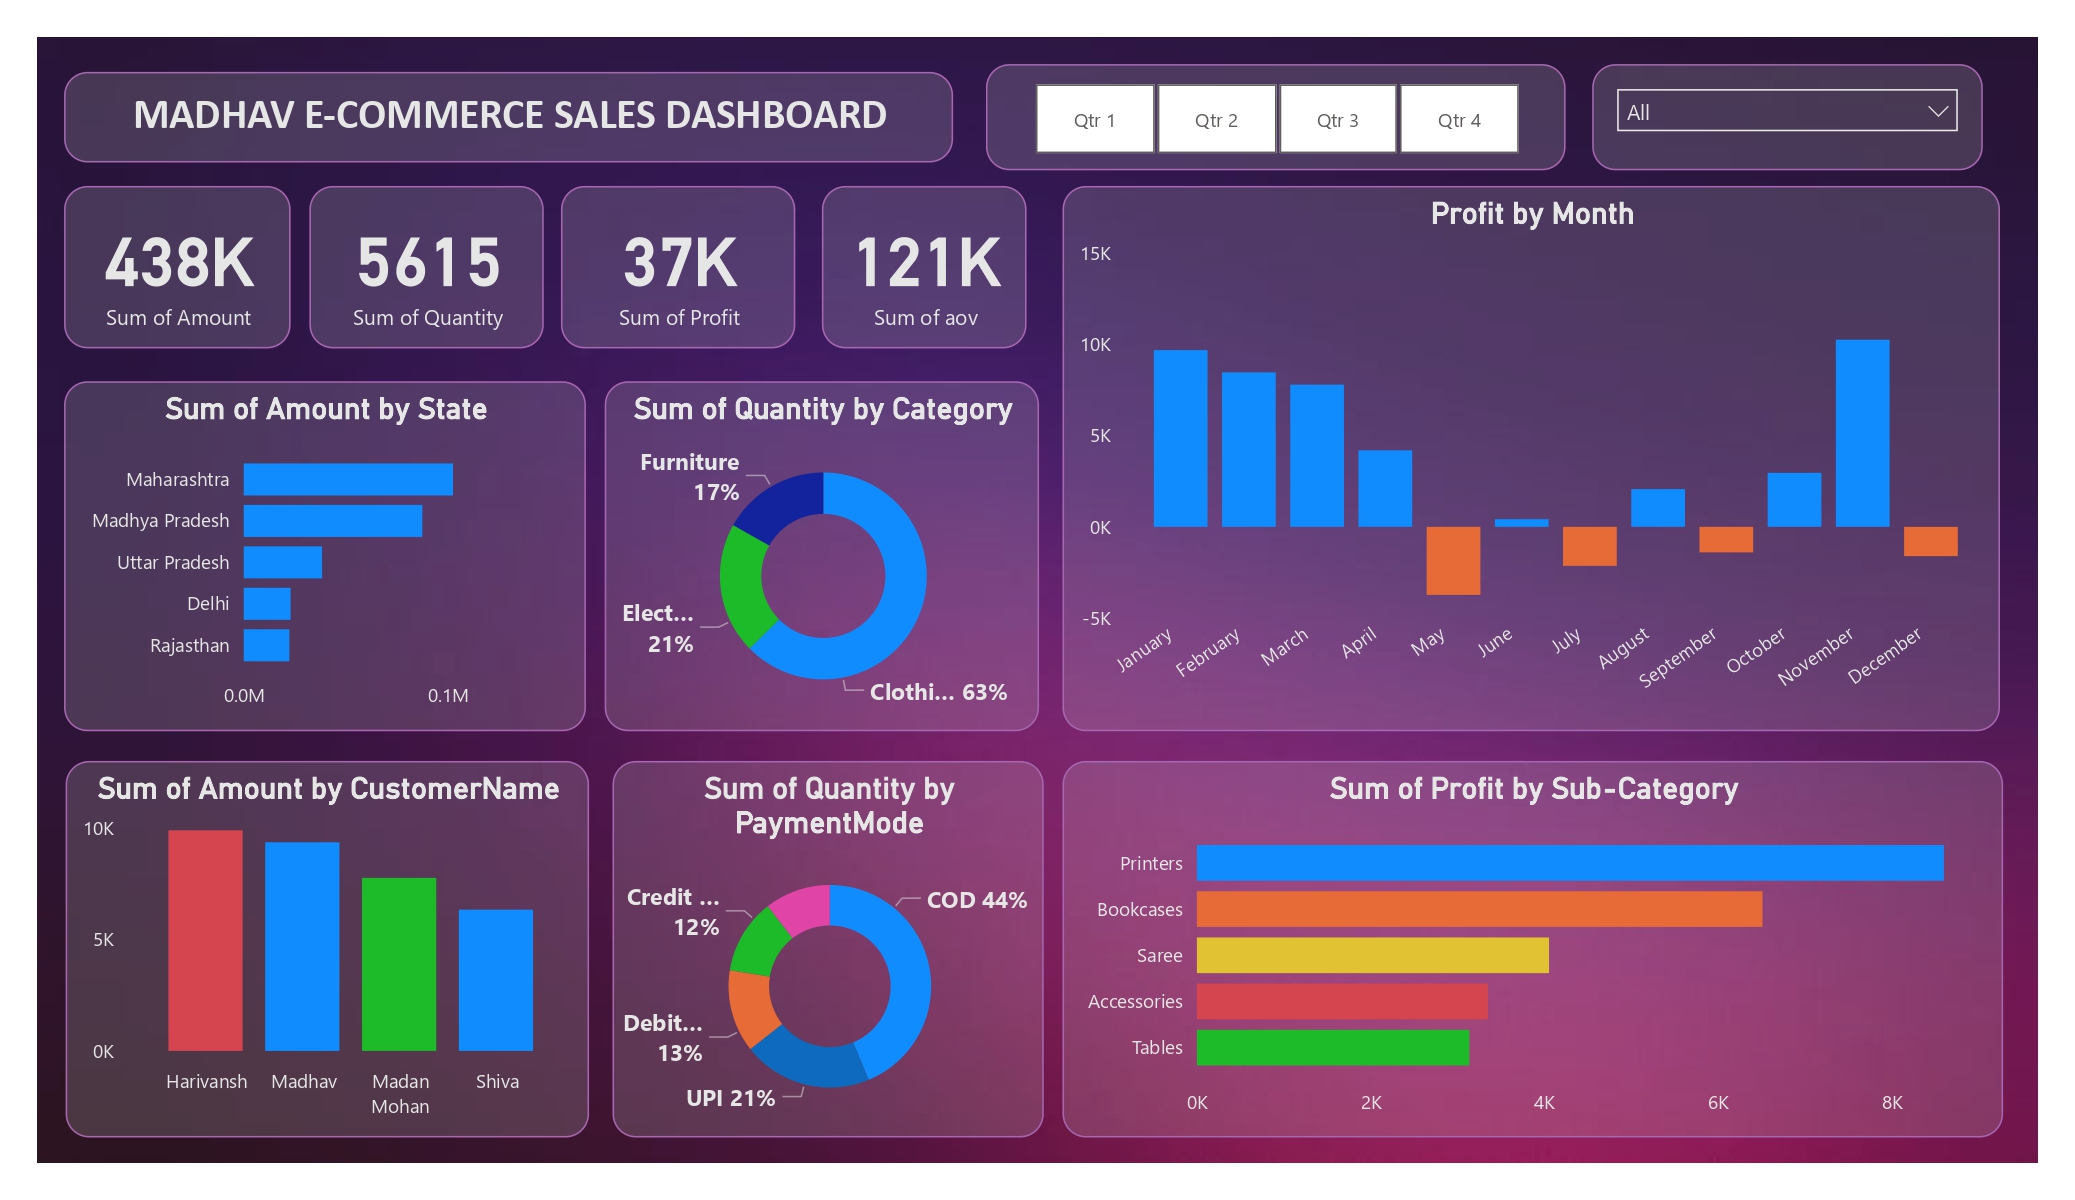

Layout of this report page (visuals, bound fields, positions):
{"tool":"powerbi","page":{"name":"Page 1","canvas":[1280,720],"ordinal":0},"visuals":[{"type":"textbox","box":[16.6,21.6,569.1,58.2],"z":0},{"type":"columnChart","title":"Profit by Month","fields":{"Category":["Orders.Order Date.Variation.Date Hierarchy.Month"],"Y":["Details.Profit"]},"box":[655.6,94.8,600.7,349.4],"z":1000},{"type":"barChart","fields":{"Category":["Details.Sub-Category"],"Y":["Details.Profit"]},"box":[655.6,462.6,602.3,241.3],"z":2000},{"type":"donutChart","fields":{"Category":["Details.Category"],"Y":["Details.Quantity"]},"box":[362.7,219.6,277.9,224.6],"z":3000},{"type":"donutChart","fields":{"Y":["Details.Quantity"],"Category":["Details.PaymentMode"]},"box":[367.7,462.6,276.2,241.3],"z":4000},{"type":"card","fields":{"Values":["Details.Amount"]},"box":[17,94.7,145.5,104.6],"z":5000},{"type":"card","fields":{"Values":["Details.Quantity"]},"box":[173.8,94.7,149.8,104.6],"z":6000},{"type":"card","fields":{"Values":["Details.Profit"]},"box":[334.9,94.7,149.8,104.6],"z":7000},{"type":"card","fields":{"Values":["Details.aov"]},"box":[501.6,94.7,131.4,104.6],"z":8000},{"type":"barChart","fields":{"Category":["Orders.State"],"Y":["Details.Amount"]},"box":[16.6,219.6,334.4,224.6],"z":9000},{"type":"columnChart","fields":{"Category":["Orders.CustomerName"],"Y":["Details.Amount"]},"box":[18.3,462.6,334.4,241.3],"z":10000},{"type":"slicer","fields":{"Values":["Orders.Order Date.Variation.Date Hierarchy.Quarter"]},"box":[607.3,16.6,371,68.2],"z":11000},{"type":"slicer","fields":{"Values":["Orders.State"]},"box":[995,16.6,249.6,68.2],"z":12000}]}

Visuals, with their boxes on the page's 1280x720 design canvas (x1, y1, x2, y2). These are canvas units, not pixel positions in the 2075x1200 screenshot, which may show the page scaled, cropped or inside an application window:
textbox: l=17, t=22, r=586, b=80
"Profit by Month" columnChart: l=656, t=95, r=1256, b=444
barChart - Details.Sub-Category x Details.Profit: l=656, t=463, r=1258, b=704
donutChart - Details.Category x Details.Quantity: l=363, t=220, r=641, b=444
donutChart - Details.Quantity x Details.PaymentMode: l=368, t=463, r=644, b=704
card - Details.Amount: l=17, t=95, r=162, b=199
card - Details.Quantity: l=174, t=95, r=324, b=199
card - Details.Profit: l=335, t=95, r=485, b=199
card - Details.aov: l=502, t=95, r=633, b=199
barChart - Orders.State x Details.Amount: l=17, t=220, r=351, b=444
columnChart - Orders.CustomerName x Details.Amount: l=18, t=463, r=353, b=704
slicer - Orders.Order Date.Variation.Date Hierarchy.Quarter: l=607, t=17, r=978, b=85
slicer - Orders.State: l=995, t=17, r=1245, b=85
